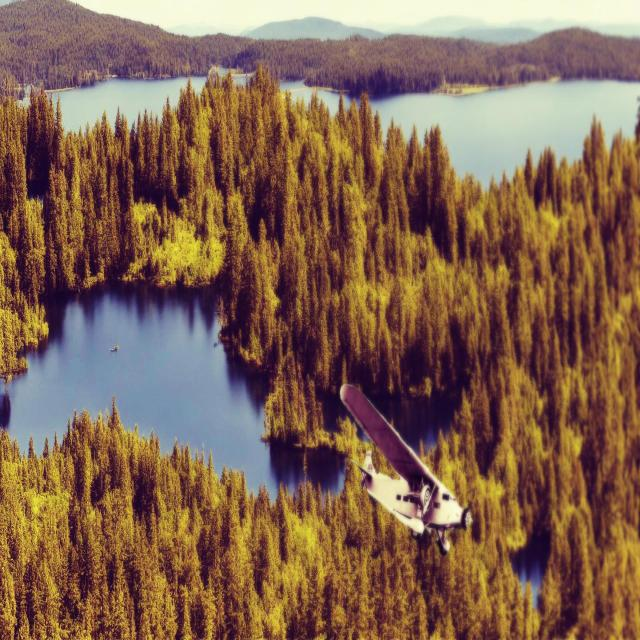airplane: (339, 382, 473, 556)
